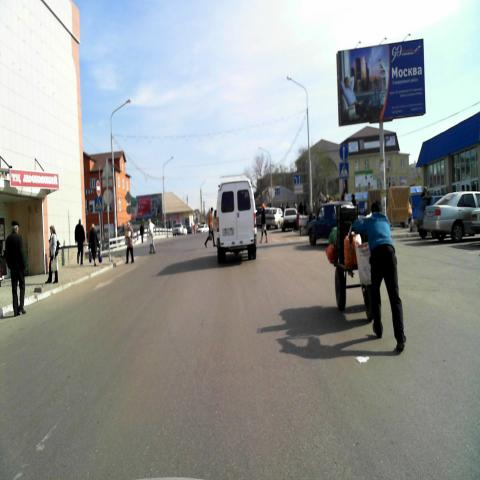4_1_1: (339, 144, 348, 161)
